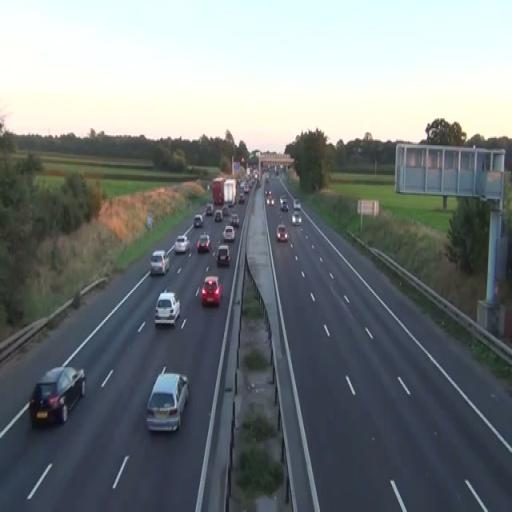Car: (29, 364, 86, 428), (146, 371, 189, 433), (154, 290, 180, 329), (201, 276, 222, 307), (149, 250, 170, 276), (217, 244, 231, 267), (174, 234, 190, 254), (196, 233, 211, 253), (222, 224, 236, 242), (276, 224, 288, 242), (193, 214, 204, 228), (230, 212, 240, 226), (214, 210, 223, 222)
